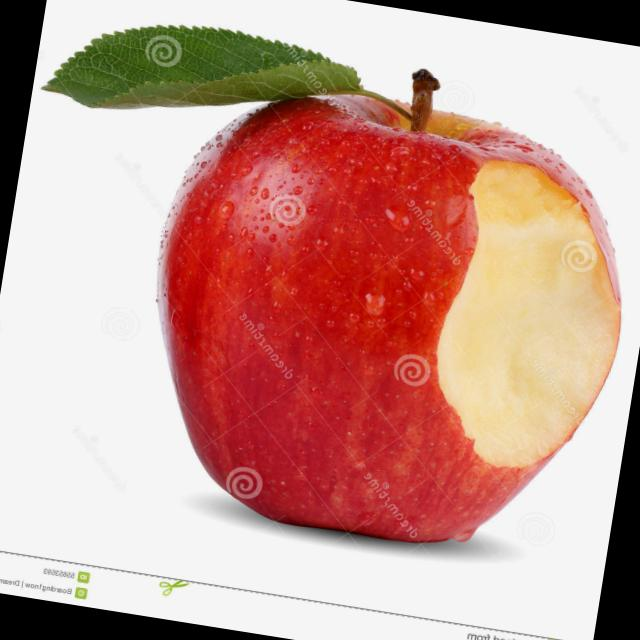apple: (107, 61, 640, 589)
